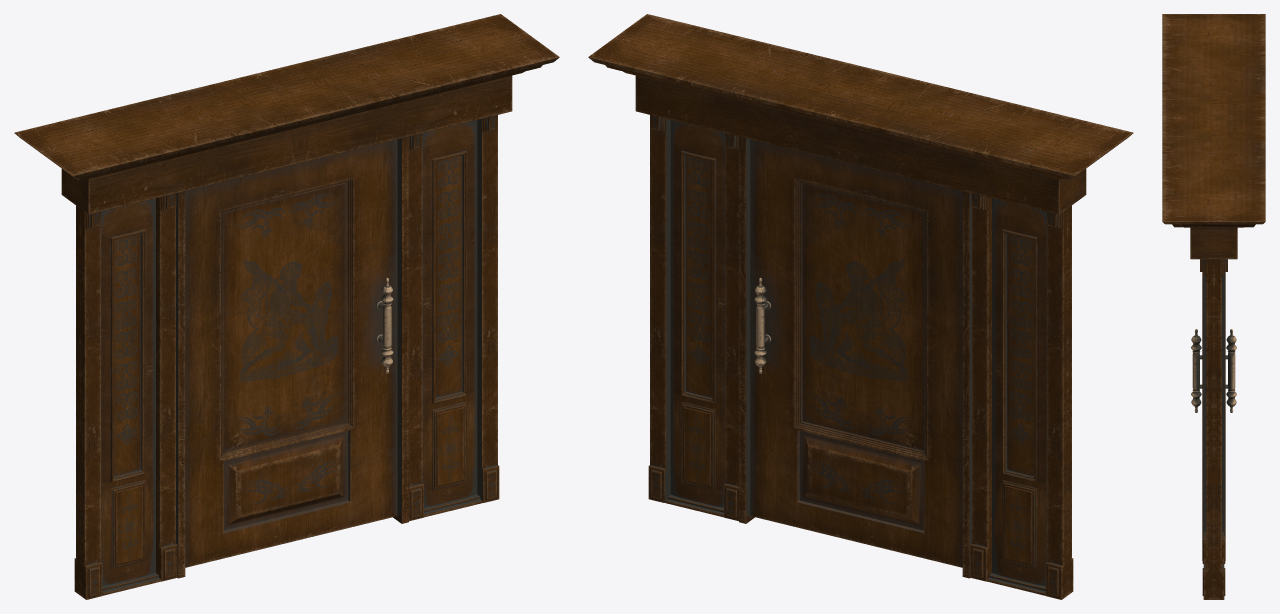
The model's file is door__wooden_18_mb.glb.
3 renders of one model, left to right at view 1: azimuth 30°, elevation 25°; view 2: azimuth 150°, elevation 25°; view 3: azimuth 270°, elevation 25°, orthographic. The views are drawn at different scales.
Parts seen in each view (by area): view 1: Base_2, Door_2; view 2: Base_2, Door_2; view 3: Base_2, Door_2.
Boxes of the visible parts, box(x1,y1,x2,y2) form: Base_2: box(14, 14, 559, 599); Door_2: box(185, 139, 397, 567); Base_2: box(588, 14, 1133, 599); Door_2: box(750, 139, 962, 567); Base_2: box(1162, 14, 1265, 599); Door_2: box(1191, 329, 1236, 412).
Bounding box in the file's own units: 7.72 × 6.83 × 1.62.
Materials: 2 (2 with a texture image).
